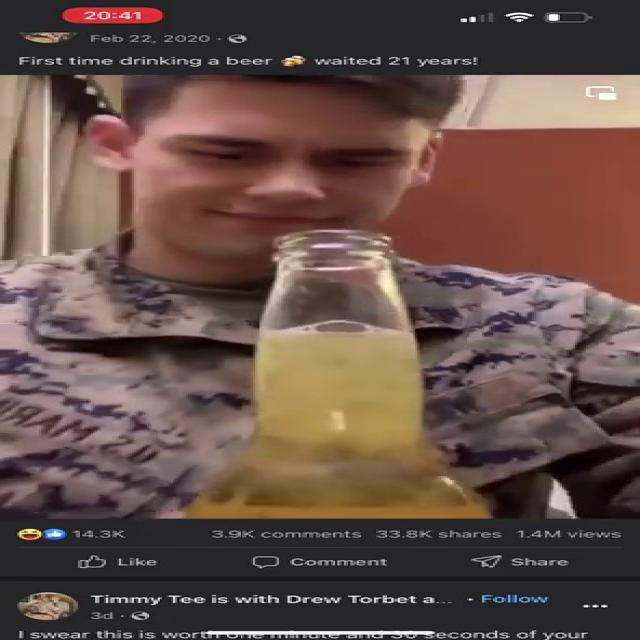Bottle: (182, 235, 490, 520)
Mouth: (202, 202, 349, 230)
